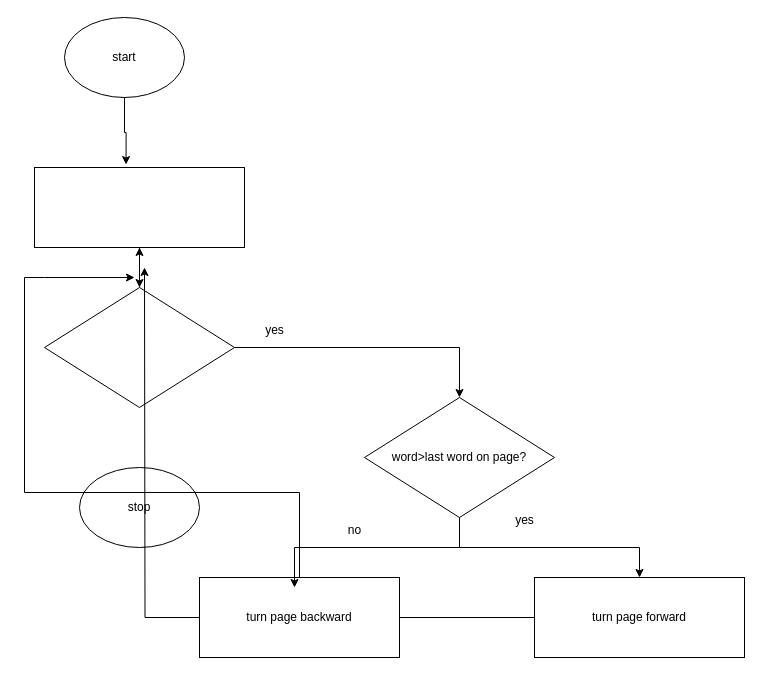
Image size: 762x675. Some labels were removed from this diagram. Each missing label, with the box of its shape:
open the dictionary: (34, 166, 244, 248)
word not on page?: (44, 286, 234, 408)
